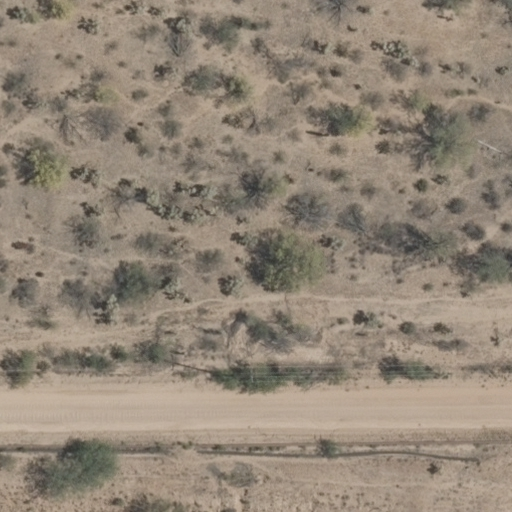DT: (212, 361, 261, 390)
